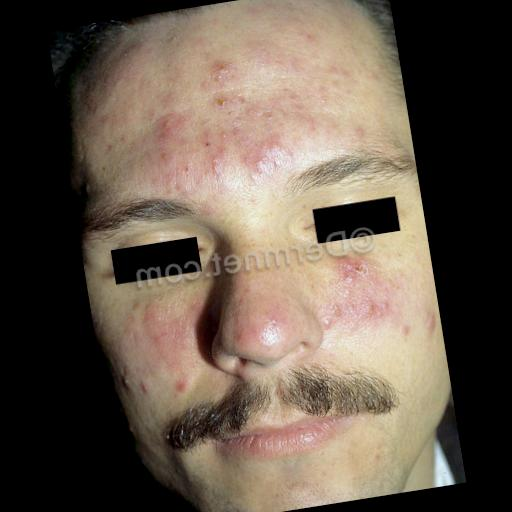Skin_Lesion: (116, 305, 202, 357), (234, 119, 296, 186), (310, 296, 406, 327), (150, 100, 188, 148), (334, 254, 378, 292), (200, 127, 228, 179), (308, 64, 353, 96), (120, 361, 150, 406), (204, 54, 238, 90), (202, 90, 244, 116), (420, 304, 439, 342), (298, 26, 322, 54), (172, 366, 187, 396), (398, 318, 412, 344), (198, 194, 212, 218), (352, 122, 368, 142), (200, 132, 212, 151)
